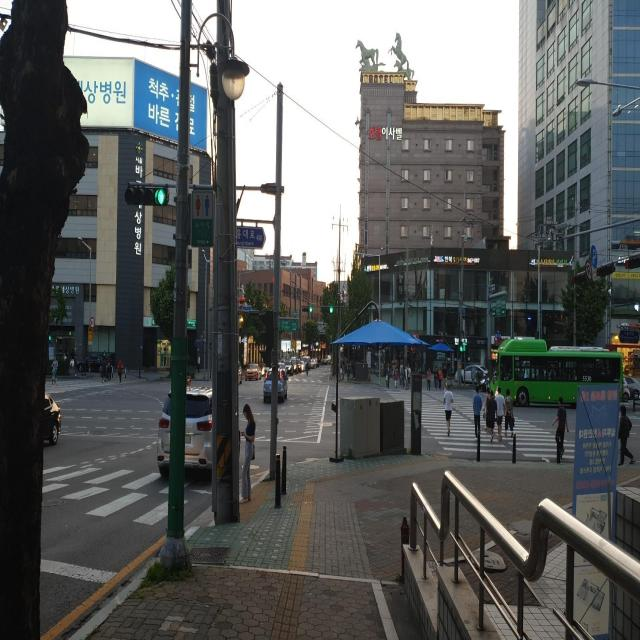초록불: (458, 330, 465, 354)
횡단보도: (385, 390, 575, 463), (38, 465, 214, 530)
